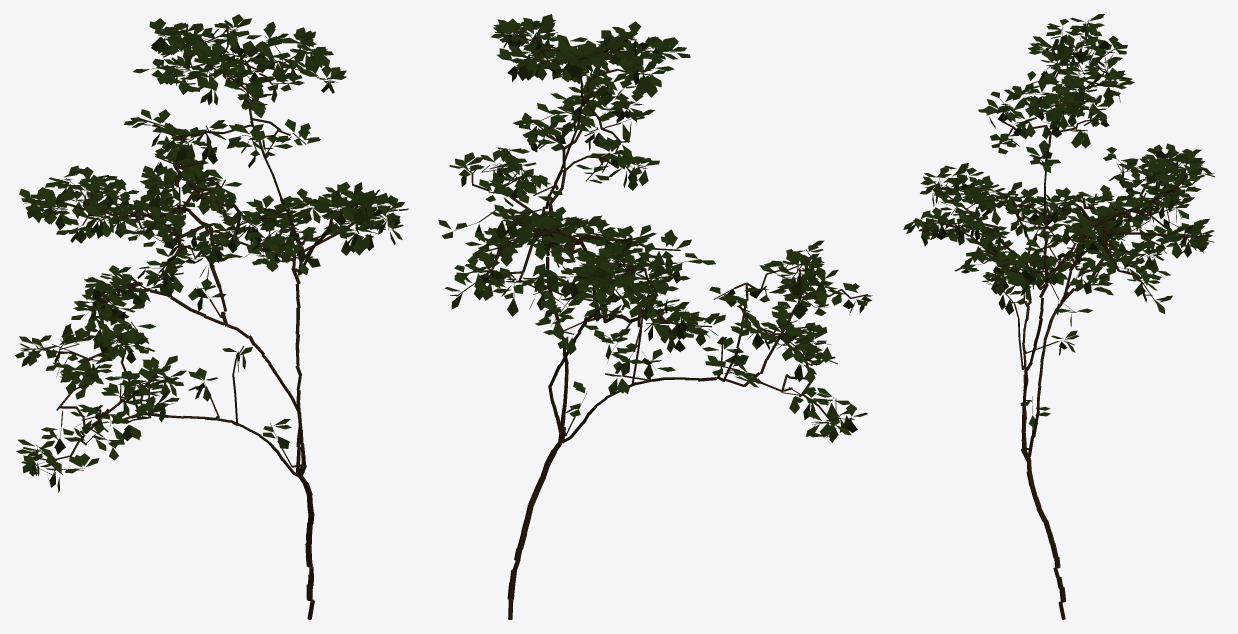
Rendered from 2022_tree_395.obj.
The picture shows the model from 3 angles, left to right: view 1: azimuth 30°, elevation 25°; view 2: azimuth 150°, elevation 25°; view 3: azimuth 270°, elevation 25°; orthographic projection. The views are drawn at different scales.
Visible parts, largest first — view 1: Leaves, TrunkAndBranches; view 2: Leaves, TrunkAndBranches; view 3: Leaves, TrunkAndBranches.
Part boxes in pixels (<box>): Leaves: <box>15,14,408,492</box>; TrunkAndBranches: <box>24,27,397,619</box>; Leaves: <box>438,14,872,442</box>; TrunkAndBranches: <box>453,25,867,619</box>; Leaves: <box>903,14,1214,427</box>; TrunkAndBranches: <box>918,20,1214,619</box>.
Bounding box in the file's own units: 6.77 × 10.12 × 5.38.
